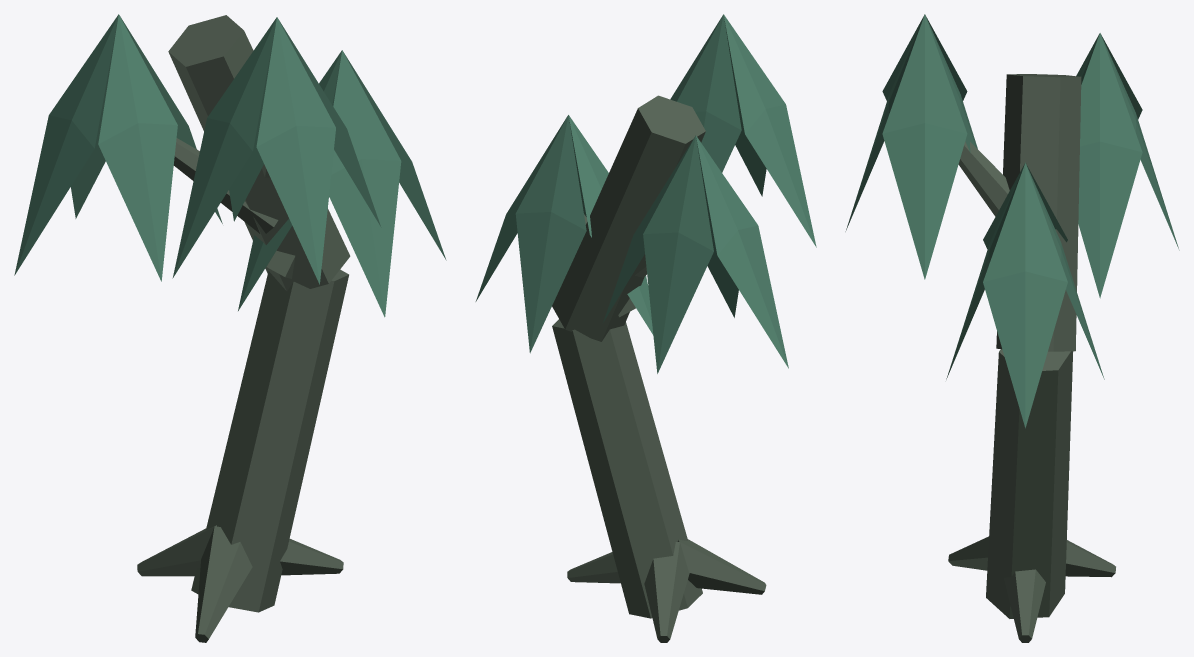
Rendered from map-boundaries-v5__lake_01.glb.
The picture shows the model from 3 angles, left to right: view 1: azimuth 30°, elevation 25°; view 2: azimuth 150°, elevation 25°; view 3: azimuth 270°, elevation 25°; orthographic projection. The views are drawn at different scales.
Visible parts, largest first — view 1: lake_01; view 2: lake_01; view 3: lake_01.
Part boxes in pixels (bbox=[...]): lake_01: bbox=[14, 14, 446, 642]; lake_01: bbox=[475, 14, 816, 642]; lake_01: bbox=[845, 14, 1179, 642].
Bounding box in the file's own units: 1.58 × 2.43 × 1.26.
